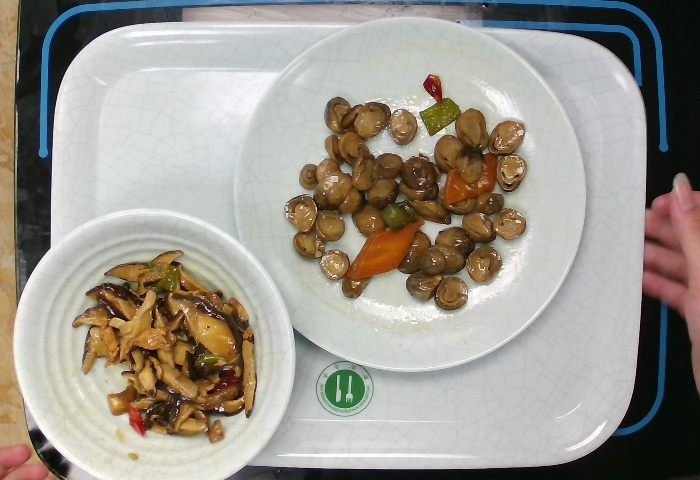JYsf-Da_Yuan_Pan: (228, 14, 590, 377)
JYsf-Xiao_Tang_Wan: (5, 204, 298, 480)
